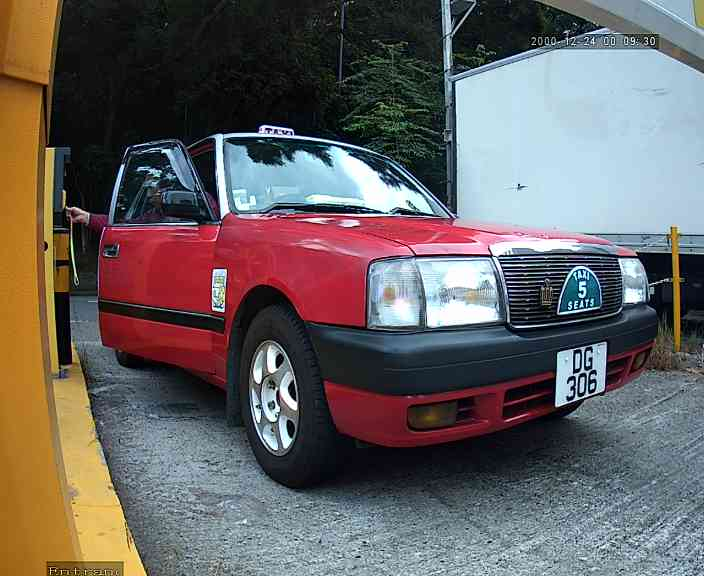taxi: (67, 101, 666, 506)
taxi_mark: (549, 258, 610, 328)
